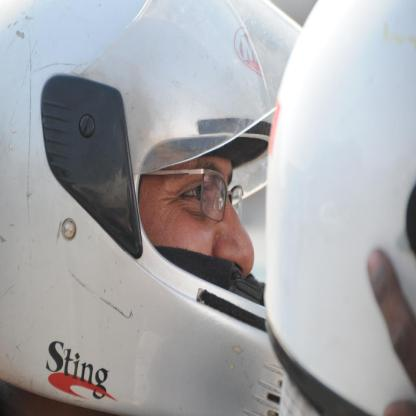Helmet: (0, 0, 300, 416), (261, 0, 416, 416)
